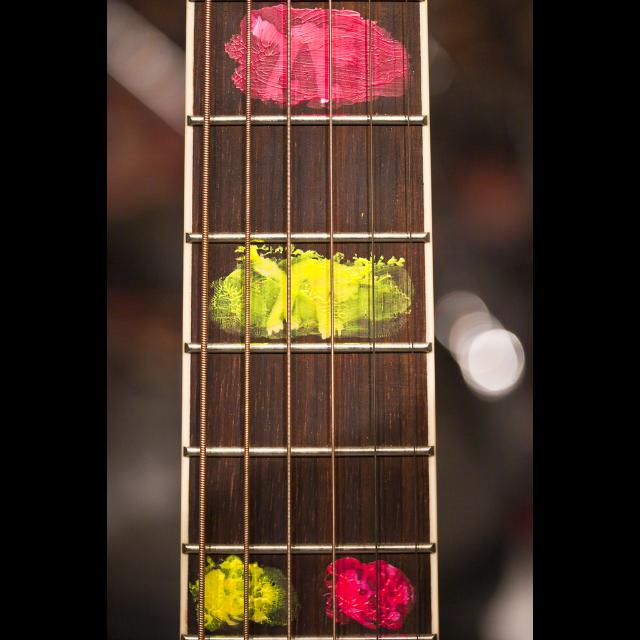Flower: (314, 548, 418, 634)
